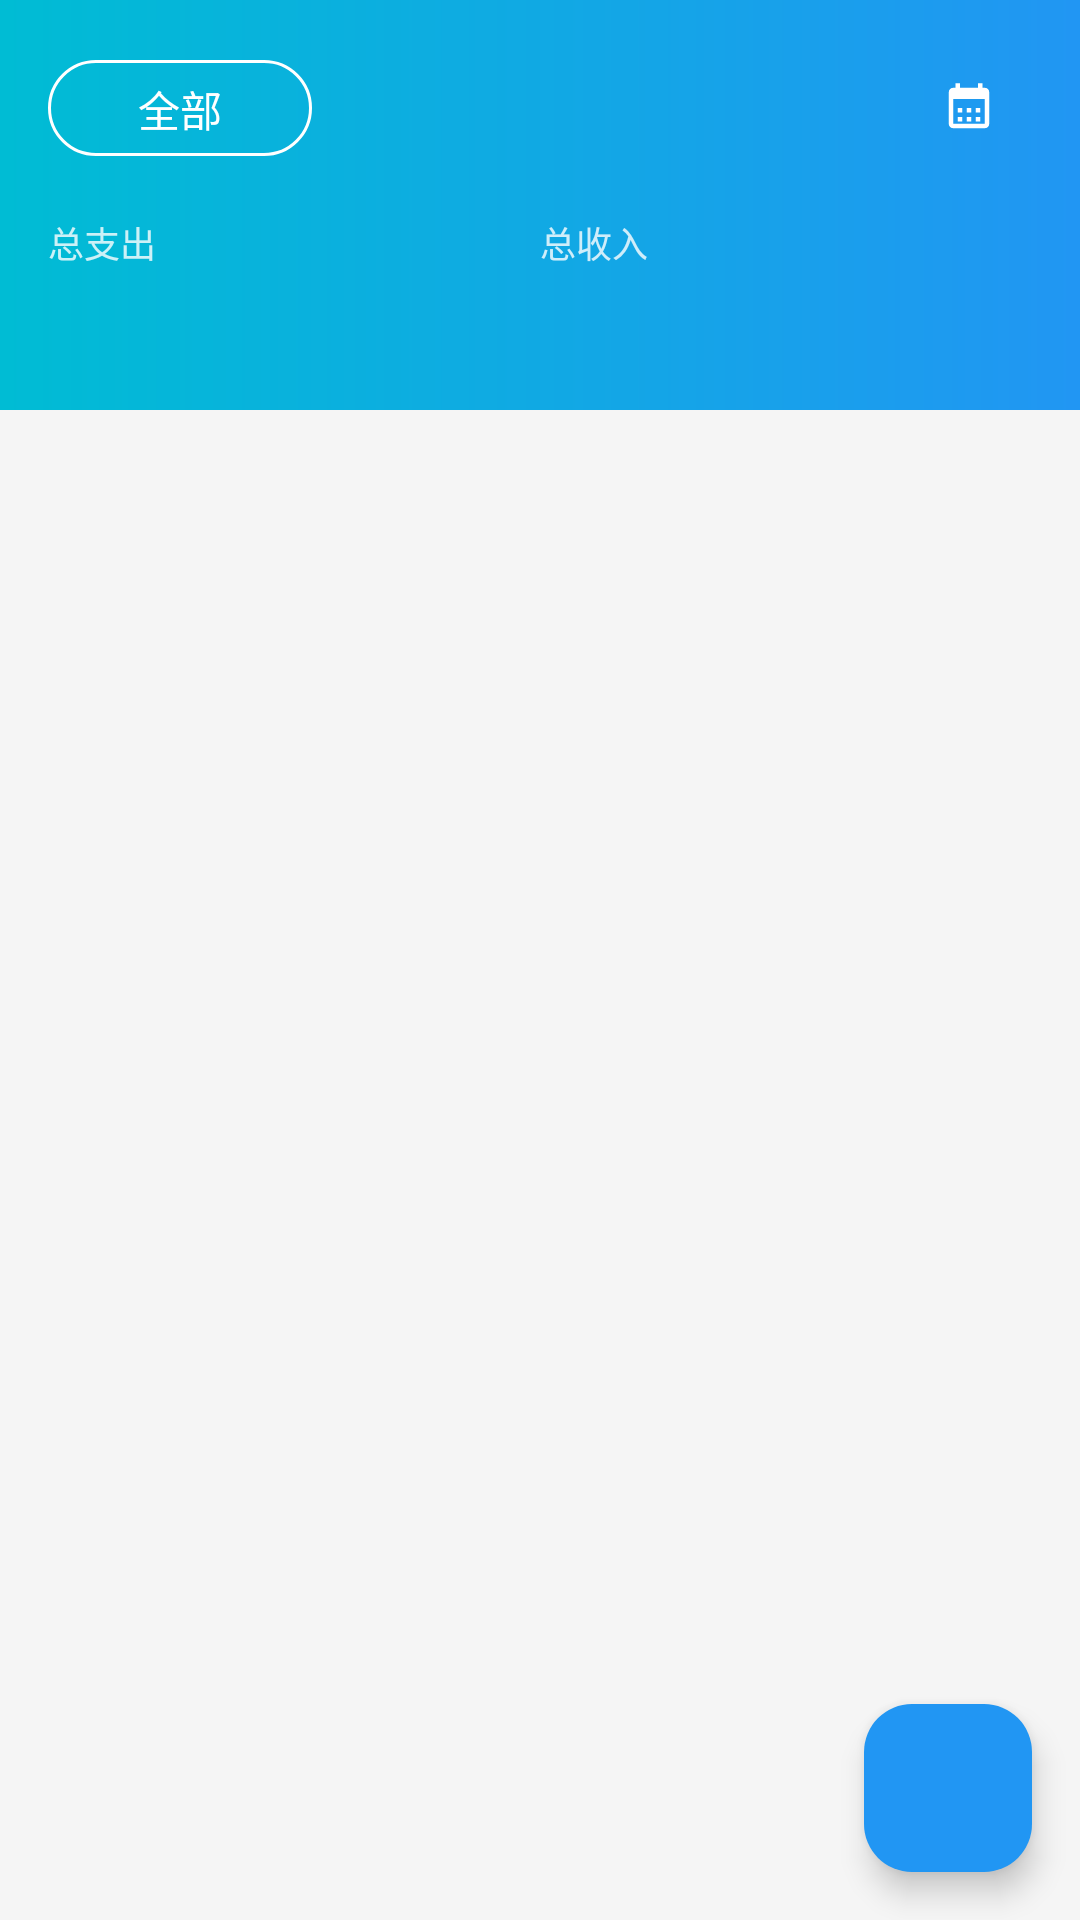

Screen size 1080px x 1920px. Icon name, then its center in pixels as point (x, y):
calendar: point (969, 106)
